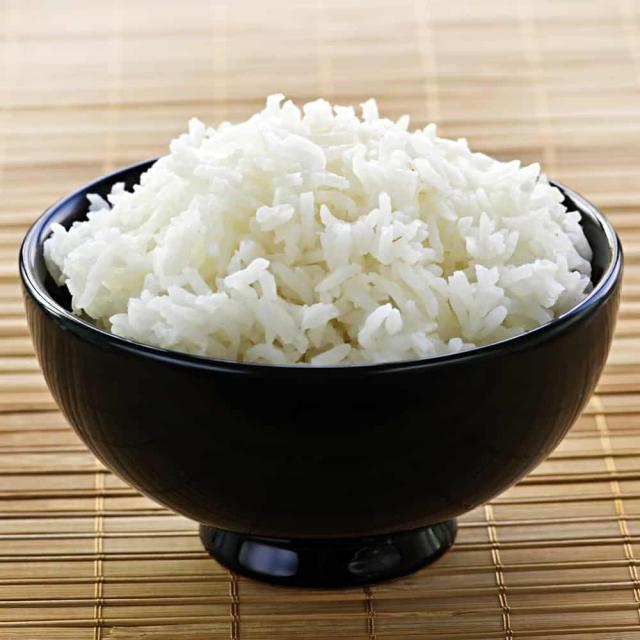Wet Waste: (36, 82, 591, 392)
